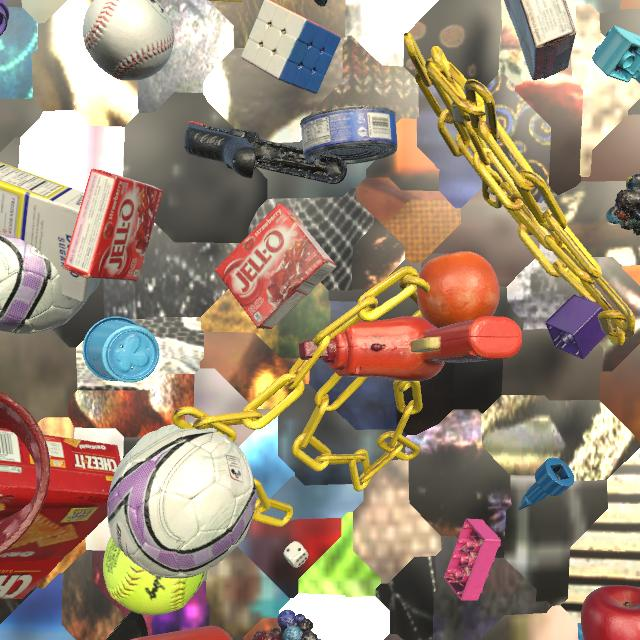ycb_003_cracker_box: (0, 428, 121, 599)
ycb_004_sugar_box: (0, 162, 101, 302)
ycb_007_tuna_fish_can: (300, 105, 398, 164)
ycb_008_pudding_box: (504, 0, 576, 80)
ycb_009_gelatin_box: (215, 204, 337, 329), (63, 169, 163, 282)
ycb_013_apple: (581, 585, 640, 640)
ycb_017_orange: (416, 251, 500, 328)
